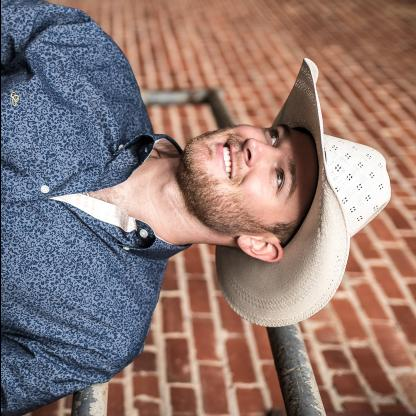hat: (206, 53, 394, 333)
